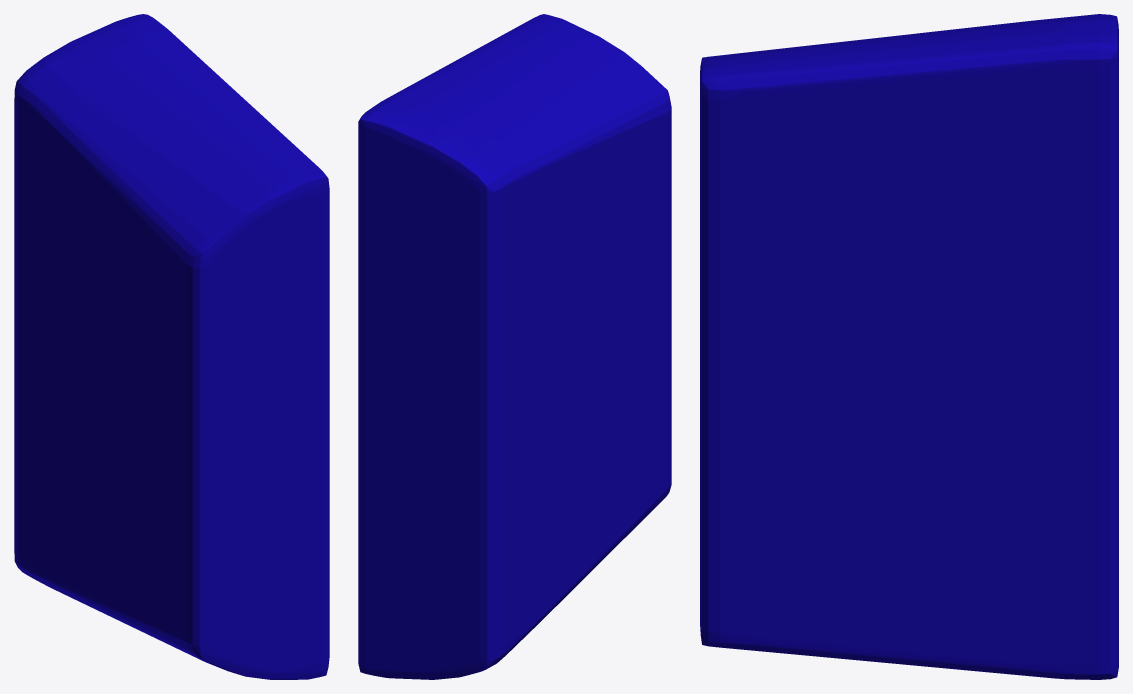
The model's file is right_th_middle_part_5.obj.
3 renders of one model, left to right at view 1: azimuth 30°, elevation 25°; view 2: azimuth 150°, elevation 25°; view 3: azimuth 270°, elevation 25°, orthographic. The views are drawn at different scales.
Bounding box in the file's own units: 5.81 × 22.25 × 13.3.
